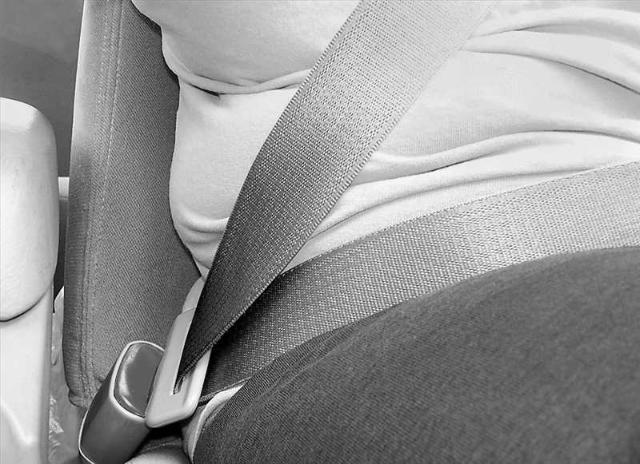Seatbelt: (130, 0, 640, 422)
